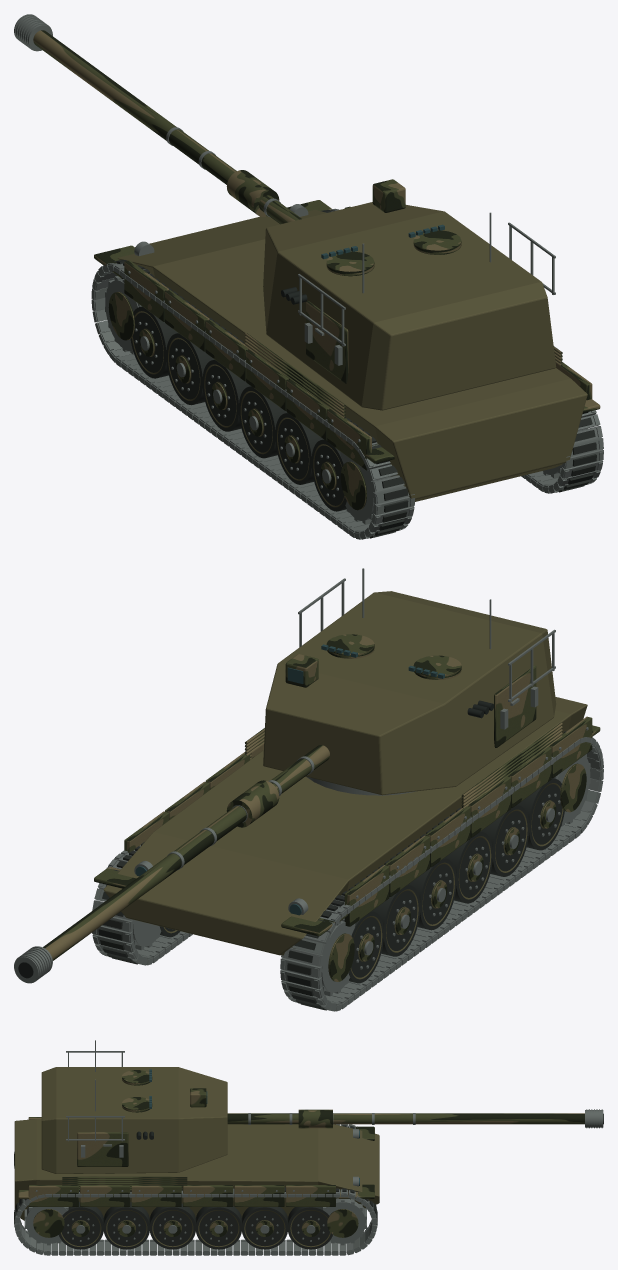
3 renders of one model, top to bottom at view 1: azimuth 30°, elevation 25°; view 2: azimuth 150°, elevation 25°; view 3: azimuth 270°, elevation 25°, orthographic. The views are drawn at different scales.
Visible parts, largest first — view 1: Other_Other_Turret.001_Camouflage paint.001, Other_Other_Hull.001_Camouflage paint.001, Other_Other_Track_L.001_Track steel and fasteners.001, Other_Other_Gun.001_Camouflage paint.001, Other_Other_Track_R.001_Track steel and fasteners.001, Other_Other_Turret.001_Track steel and fasteners.001, Other_Other_Track_L.001_Camouflage paint.001, Other_Other_RoadWheel_-1_3.001_Rubber tires and pads.001, Other_Other_RoadWheel_-1_4.001_Rubber tires and pads.001, Other_Other_RoadWheel_-1_5.001_Rubber tires and pads.001, Other_Other_RoadWheel_-1_2.001_Rubber tires and pads.001, Other_Other_RoadWheel_-1_6.001_Rubber tires and pads.001 (+4 smaller); view 2: Other_Other_Hull.001_Camouflage paint.001, Other_Other_Turret.001_Camouflage paint.001, Other_Other_Track_L.001_Track steel and fasteners.001, Other_Other_Gun.001_Camouflage paint.001, Other_Other_Track_R.001_Track steel and fasteners.001, Other_Other_Track_L.001_Camouflage paint.001, Other_Other_Turret.001_Track steel and fasteners.001, Other_Other_RoadWheel_-1_4.001_Rubber tires and pads.001, Other_Other_RoadWheel_-1_3.001_Rubber tires and pads.001, Other_Other_RoadWheel_-1_5.001_Rubber tires and pads.001, Other_Other_RoadWheel_-1_2.001_Rubber tires and pads.001, Other_Other_RoadWheel_-1_1.001_Rubber tires and pads.001 (+6 smaller); view 3: Other_Other_Hull.001_Camouflage paint.001, Other_Other_Turret.001_Camouflage paint.001, Other_Other_Track_R.001_Track steel and fasteners.001, Other_Other_Gun.001_Camouflage paint.001, Other_Other_Track_R.001_Camouflage paint.001, Other_Other_RoadWheel_1_2.001_Rubber tires and pads.001, Other_Other_RoadWheel_1_3.001_Rubber tires and pads.001, Other_Other_RoadWheel_1_5.001_Rubber tires and pads.001, Other_Other_RoadWheel_1_4.001_Rubber tires and pads.001, Other_Other_RoadWheel_1_1.001_Rubber tires and pads.001, Other_Other_RoadWheel_1_6.001_Rubber tires and pads.001, Other_Other_Turret.001_Track steel and fasteners.001 (+7 smaller).
Boxes of the visible parts, <box> form: Other_Other_Turret.001_Camouflage paint.001: <box>263,179,556,410</box>; Other_Other_Hull.001_Camouflage paint.001: <box>94,200,600,501</box>; Other_Other_Track_L.001_Track steel and fasteners.001: <box>91,263,414,539</box>; Other_Other_Gun.001_Camouflage paint.001: <box>33,30,301,224</box>; Other_Other_Track_R.001_Track steel and fasteners.001: <box>329,208,603,493</box>; Other_Other_Turret.001_Track steel and fasteners.001: <box>298,212,555,365</box>; Other_Other_Track_L.001_Camouflage paint.001: <box>108,292,366,510</box>; Other_Other_RoadWheel_-1_3.001_Rubber tires and pads.001: <box>238,386,286,458</box>; Other_Other_RoadWheel_-1_4.001_Rubber tires and pads.001: <box>202,359,250,431</box>; Other_Other_RoadWheel_-1_5.001_Rubber tires and pads.001: <box>166,333,214,405</box>; Other_Other_RoadWheel_-1_2.001_Rubber tires and pads.001: <box>275,413,323,484</box>; Other_Other_RoadWheel_-1_6.001_Rubber tires and pads.001: <box>130,306,177,378</box>; Other_Other_Hull.001_Camouflage paint.001: <box>94,697,600,955</box>; Other_Other_Turret.001_Camouflage paint.001: <box>263,591,556,795</box>; Other_Other_Track_L.001_Track steel and fasteners.001: <box>280,737,603,1011</box>; Other_Other_Gun.001_Camouflage paint.001: <box>43,745,329,960</box>; Other_Other_Track_R.001_Track steel and fasteners.001: <box>92,845,192,965</box>; Other_Other_Track_L.001_Camouflage paint.001: <box>328,763,586,981</box>; Other_Other_Turret.001_Track steel and fasteners.001: <box>298,568,555,729</box>; Other_Other_RoadWheel_-1_4.001_Rubber tires and pads.001: <box>408,858,456,930</box>; Other_Other_RoadWheel_-1_3.001_Rubber tires and pads.001: <box>445,831,492,903</box>; Other_Other_RoadWheel_-1_5.001_Rubber tires and pads.001: <box>372,884,420,956</box>; Other_Other_RoadWheel_-1_2.001_Rubber tires and pads.001: <box>481,805,529,876</box>; Other_Other_RoadWheel_-1_1.001_Rubber tires and pads.001: <box>517,778,564,850</box>; Other_Other_Hull.001_Camouflage paint.001: <box>14,1117,379,1220</box>; Other_Other_Turret.001_Camouflage paint.001: <box>41,1067,227,1173</box>; Other_Other_Track_R.001_Track steel and fasteners.001: <box>14,1188,377,1255</box>; Other_Other_Gun.001_Camouflage paint.001: <box>227,1109,584,1128</box>; Other_Other_Track_R.001_Camouflage paint.001: <box>33,1209,358,1237</box>; Other_Other_RoadWheel_1_2.001_Rubber tires and pads.001: <box>103,1202,149,1249</box>; Other_Other_RoadWheel_1_3.001_Rubber tires and pads.001: <box>149,1203,195,1249</box>; Other_Other_RoadWheel_1_5.001_Rubber tires and pads.001: <box>241,1207,287,1249</box>; Other_Other_RoadWheel_1_4.001_Rubber tires and pads.001: <box>195,1206,241,1249</box>; Other_Other_RoadWheel_1_1.001_Rubber tires and pads.001: <box>59,1202,103,1249</box>; Other_Other_RoadWheel_1_6.001_Rubber tires and pads.001: <box>287,1207,332,1249</box>; Other_Other_Turret.001_Track steel and fasteners.001: <box>66,1040,124,1157</box>.
Bounding box in the file's own units: 3.43 × 3.62 × 12.04.
5 materials, 1 textured.
